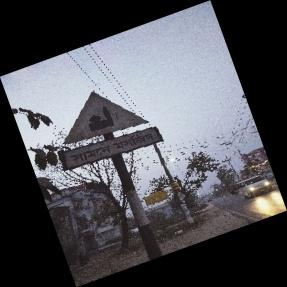Mosque in front: (61, 90, 158, 172)
